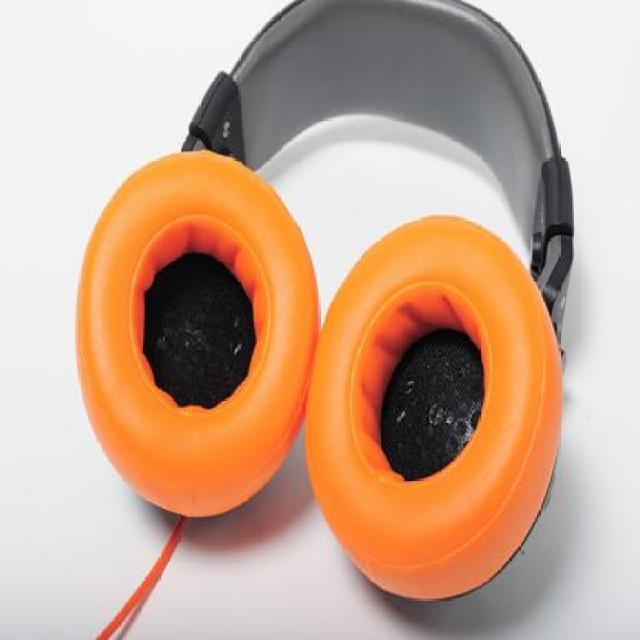earphone: (85, 1, 583, 599)
